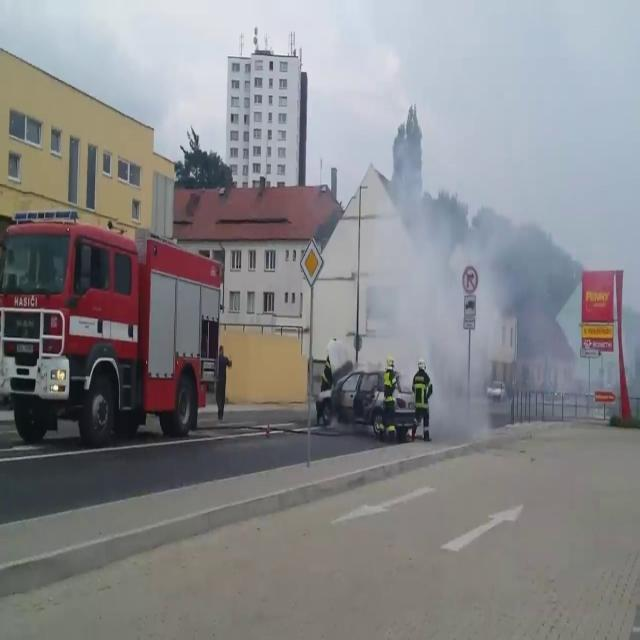Smoke: (360, 104, 542, 388)
